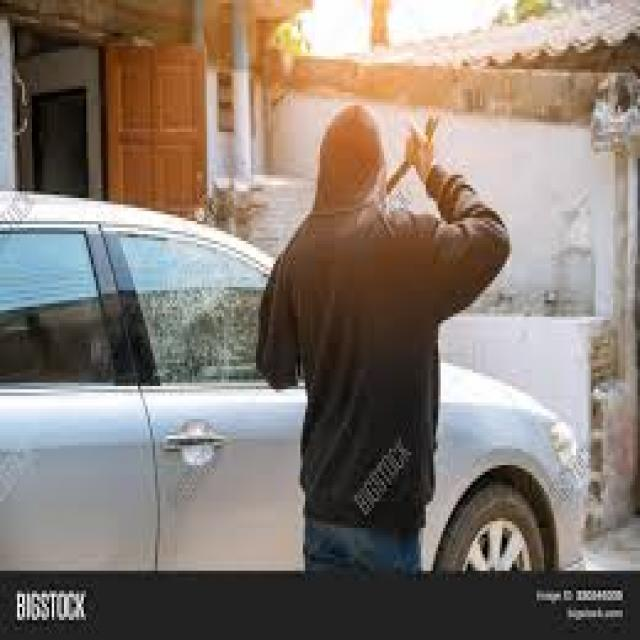damaged-window: (121, 226, 271, 401)
